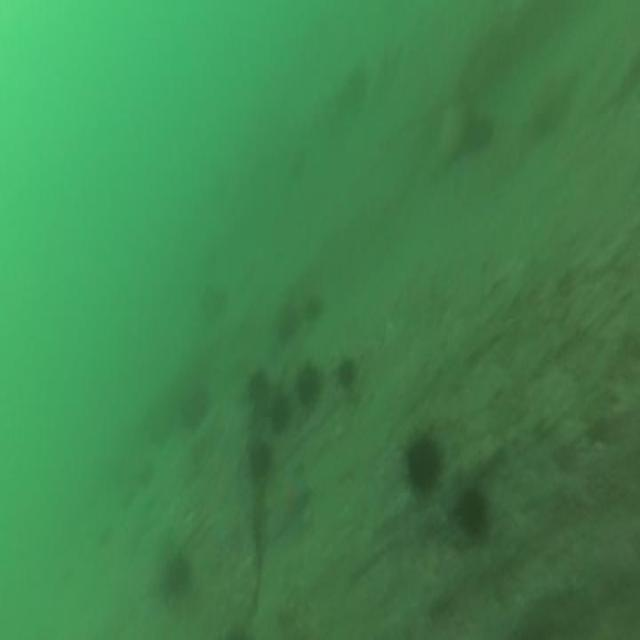echinus: (402, 423, 443, 498), (453, 477, 490, 542), (338, 60, 372, 119), (461, 106, 495, 158), (199, 275, 228, 329), (293, 359, 323, 411), (163, 550, 194, 600), (180, 382, 210, 433), (268, 388, 294, 438), (277, 302, 305, 348), (246, 436, 274, 482), (245, 365, 271, 414), (332, 352, 359, 393), (302, 289, 324, 324)
starfish: (521, 68, 579, 148), (264, 468, 314, 547)
